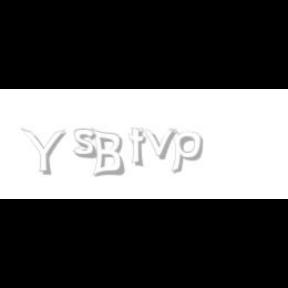B: (90, 128, 124, 178)
Y: (20, 128, 66, 176)
p: (170, 128, 206, 174)
s: (74, 128, 102, 160)
t: (129, 128, 151, 168)
v: (141, 128, 181, 160)
